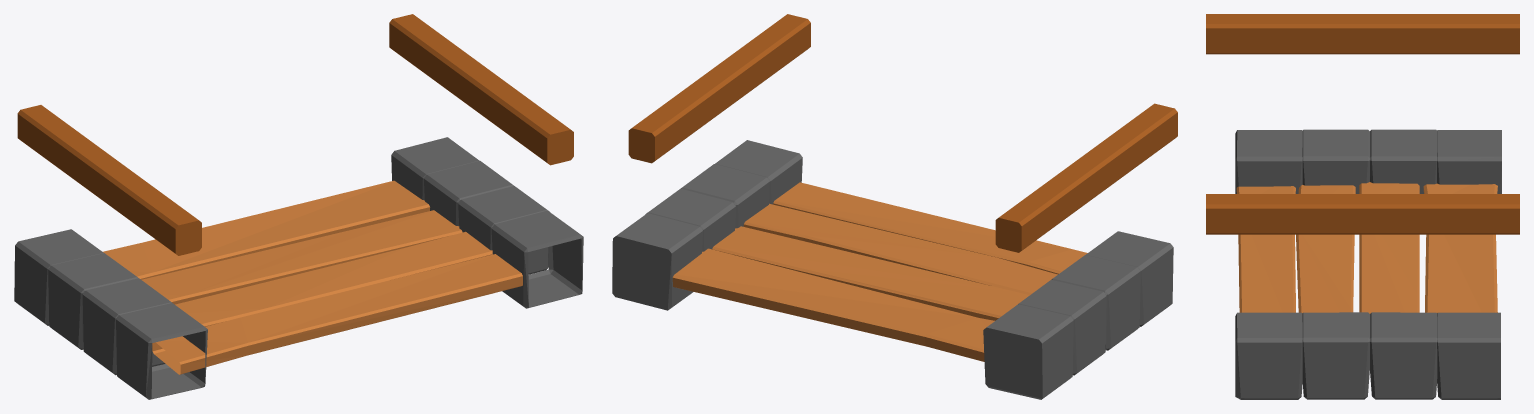
File: Bridge_2.fbx
The picture shows the model from 3 angles, left to right: view 1: azimuth 30°, elevation 25°; view 2: azimuth 150°, elevation 25°; view 3: azimuth 270°, elevation 25°; orthographic projection.
Parts seen in each view (by area): view 1: Bridge_2; view 2: Bridge_2; view 3: Bridge_2.
Part boxes in pixels (x1,y1,x2,y2): Bridge_2: (14, 14, 583, 399); Bridge_2: (612, 14, 1177, 399); Bridge_2: (1206, 14, 1519, 399).
Bounding box in the file's own units: 5.92 × 2.4 × 3.71.
